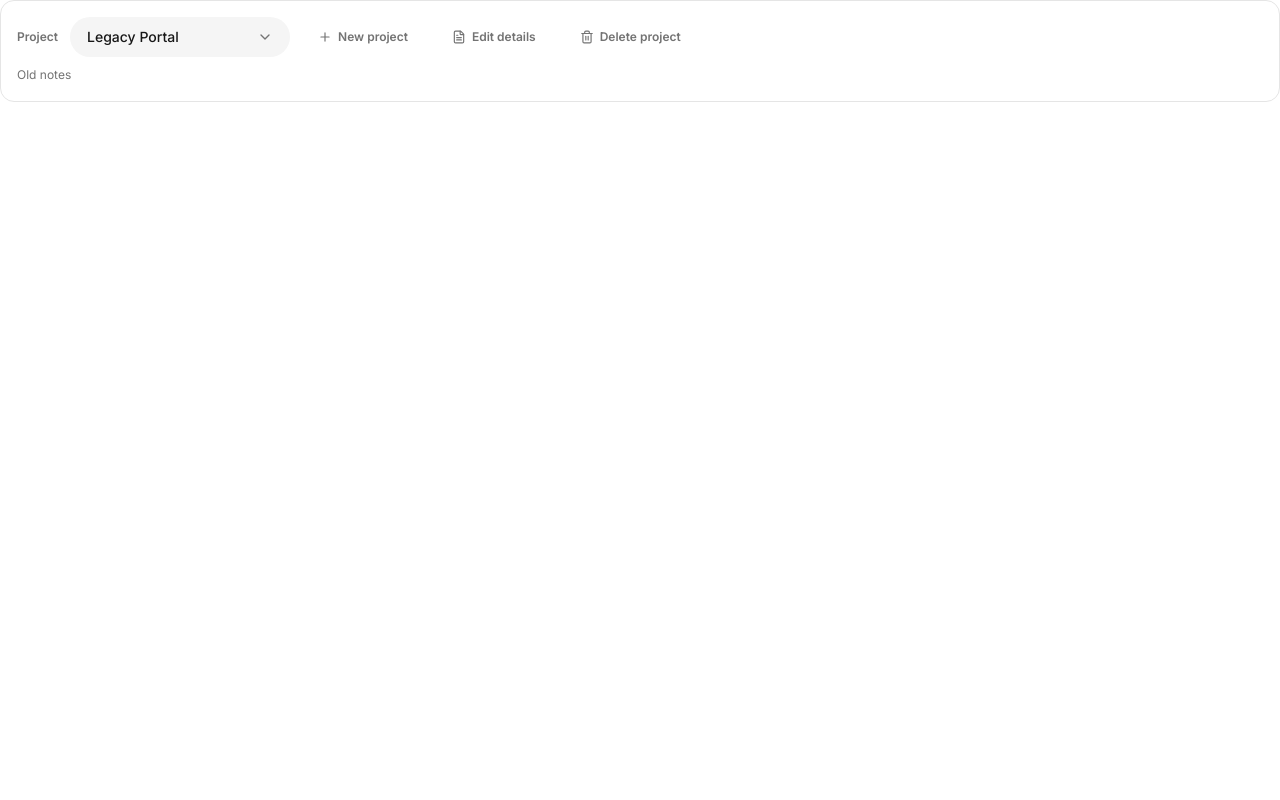
Test: ProjectPicker editing a project's details › opens filled with the current name and description
Click the button "Edit details" at point(494, 37), box [436,19,552,55]
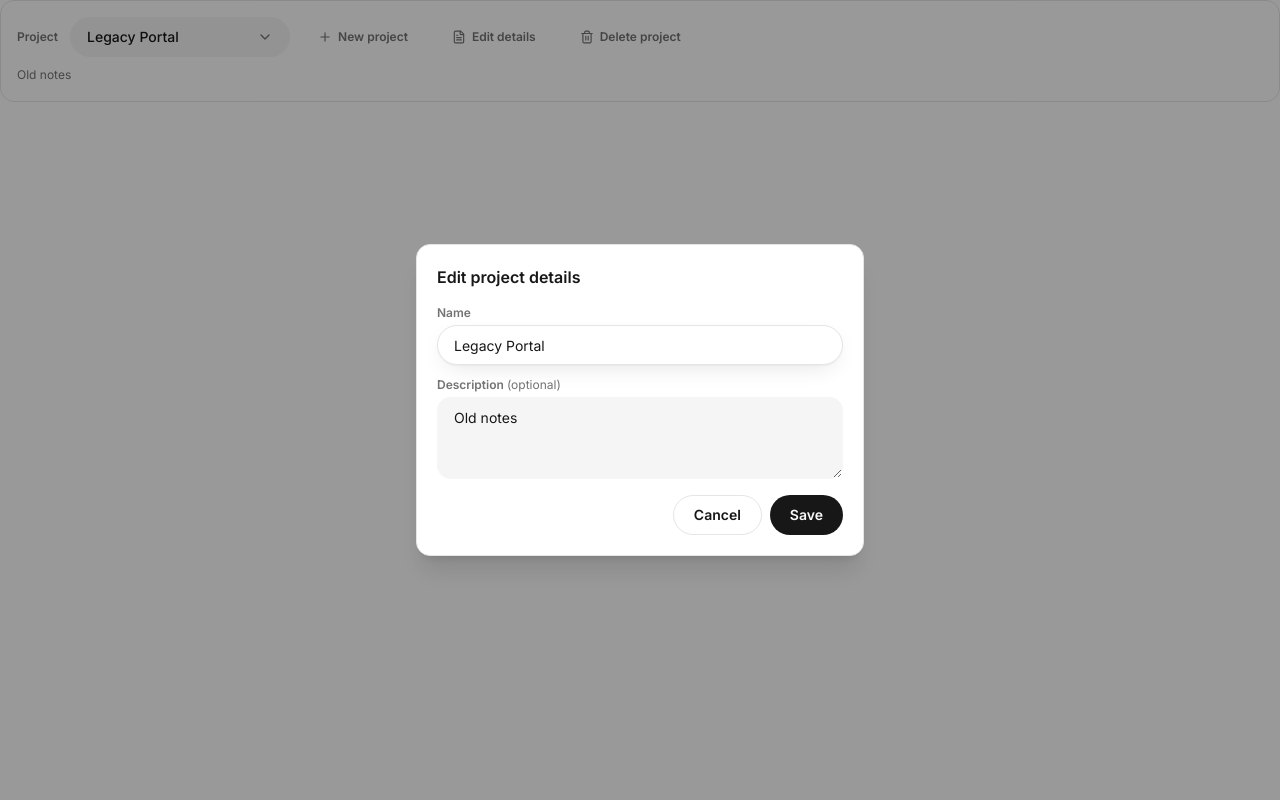
Result: the dialog "Edit project details" is shown
Result: the field labelled "Name" holds "Legacy Portal" at [437,325,843,365]
Result: the text box labelled "Description (optional)" holds "Old notes" at [437,397,843,479]
